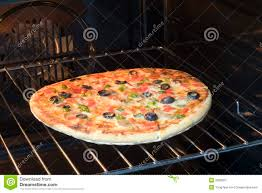pizza: (34, 76, 215, 142)
